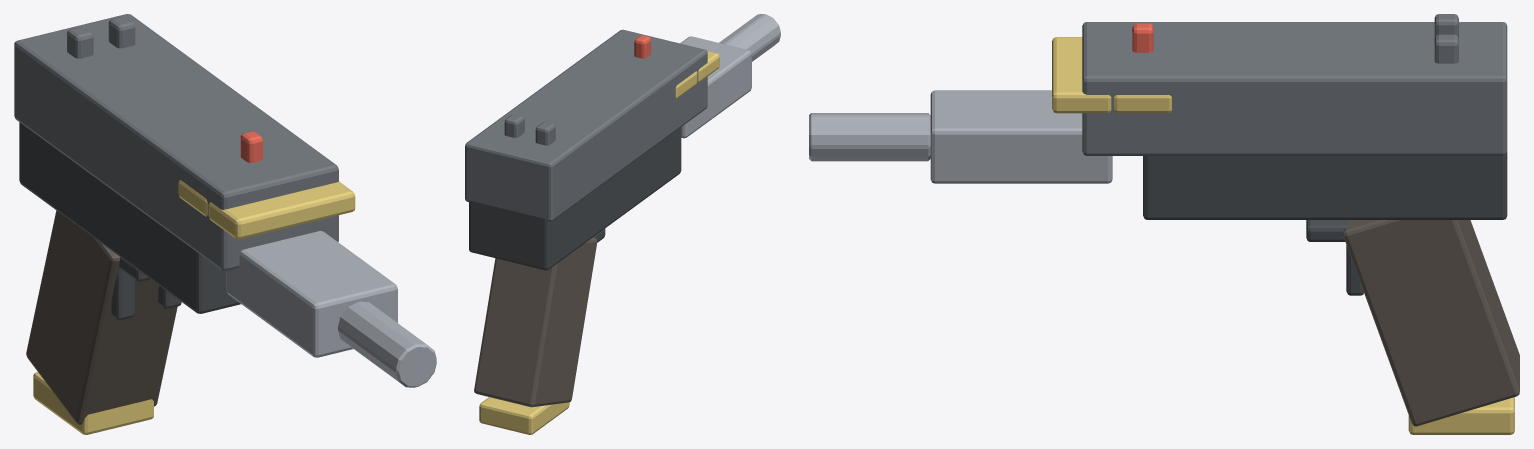
The model's file is deagle.glb.
3 renders of one model, left to right at view 1: azimuth 30°, elevation 25°; view 2: azimuth 150°, elevation 25°; view 3: azimuth 270°, elevation 25°, orthographic. The views are drawn at different scales.
Visible parts, largest first — view 1: Slide, Grip, Barrel_Housing, Frame, Barrel, Comp_1, Gold_Floor, Guard_L, Rear_Sight_R, Rear_Sight_L, Front_Sight, Comp_2; view 2: Slide, Grip, Frame, Barrel_Housing, Gold_Floor, Barrel, Rear_Sight_L, Rear_Sight_R, Comp_1, Front_Sight, Comp_2; view 3: Slide, Grip, Frame, Barrel_Housing, Barrel, Comp_1, Gold_Floor, Comp_2, Guard_Bot, Rear_Sight_R.
Part boxes in pixels (box(x1,y1,x2,y2)): Slide: box(14, 14, 338, 270); Grip: box(26, 210, 177, 424); Barrel_Housing: box(226, 231, 397, 357); Frame: box(19, 122, 240, 313); Barrel: box(338, 301, 436, 387); Comp_1: box(208, 181, 355, 239); Gold_Floor: box(33, 372, 153, 434); Guard_L: box(111, 269, 134, 320); Rear_Sight_R: box(108, 16, 135, 48); Rear_Sight_L: box(67, 27, 93, 58); Front_Sight: box(240, 131, 262, 162); Comp_2: box(178, 180, 207, 216); Slide: box(465, 29, 707, 221); Grip: box(474, 237, 597, 407); Frame: box(469, 127, 681, 270); Barrel_Housing: box(680, 36, 751, 138); Gold_Floor: box(479, 397, 569, 434); Barrel: box(719, 14, 780, 61); Rear_Sight_L: box(535, 122, 555, 145); Rear_Sight_R: box(504, 114, 524, 137); Comp_1: box(698, 51, 719, 82); Front_Sight: box(634, 35, 650, 58); Comp_2: box(675, 71, 697, 98); Slide: box(1082, 22, 1507, 155); Grip: box(1343, 220, 1519, 426); Frame: box(1143, 152, 1507, 219); Barrel_Housing: box(930, 90, 1112, 183); Barrel: box(809, 113, 930, 161); Comp_1: box(1052, 37, 1111, 113); Gold_Floor: box(1408, 397, 1514, 434); Comp_2: box(1114, 95, 1171, 113); Guard_Bot: box(1306, 220, 1348, 241); Rear_Sight_R: box(1434, 34, 1458, 63).
Size of the model in its own units: 0.092 by 0.286 by 0.4682.
